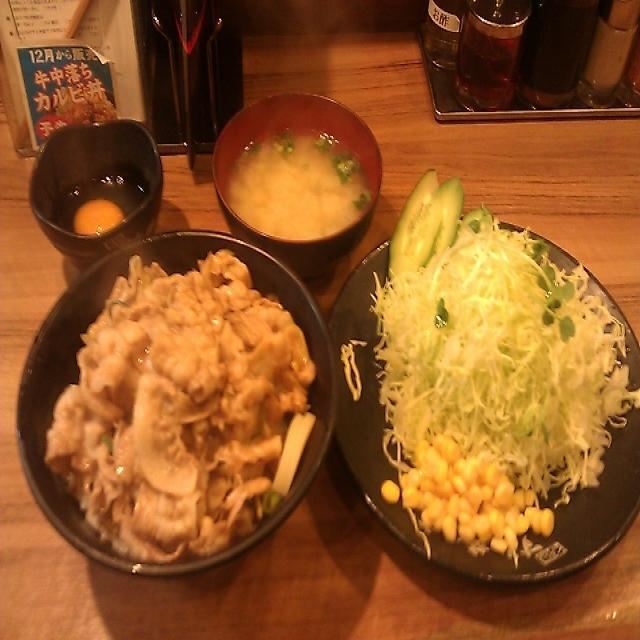Green Salad: (364, 192, 624, 520)
